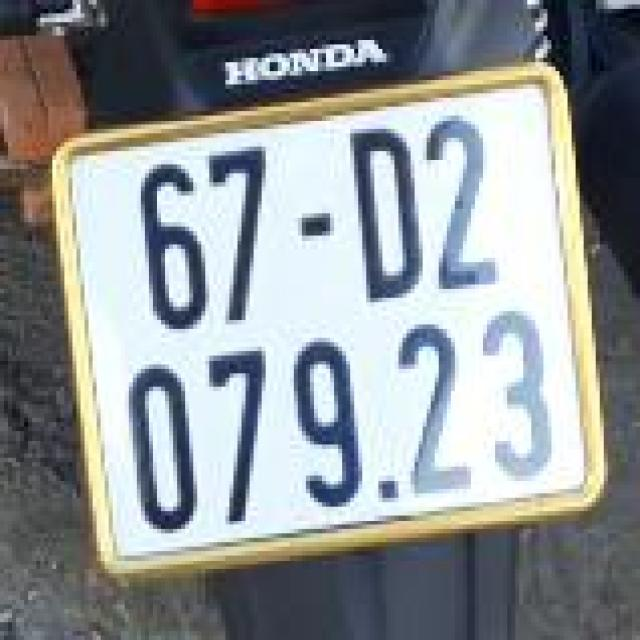0: (125, 360, 201, 538)
2: (394, 318, 475, 496), (427, 111, 503, 293)
3: (483, 304, 555, 482)
6: (137, 157, 209, 336)
7: (205, 138, 274, 324), (207, 344, 272, 526)
9: (288, 333, 364, 511)
D: (344, 125, 425, 306)
